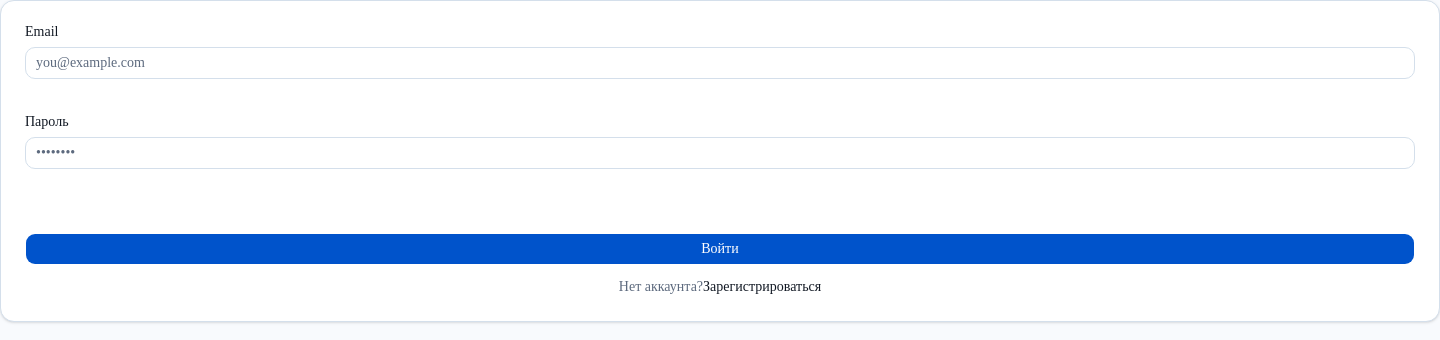
Test case: LoginForm › не отправляет форму с невалидным email
In the field labelled "Email": {"x": 720, "y": 63} [25,47,1415,79], type "invalid"
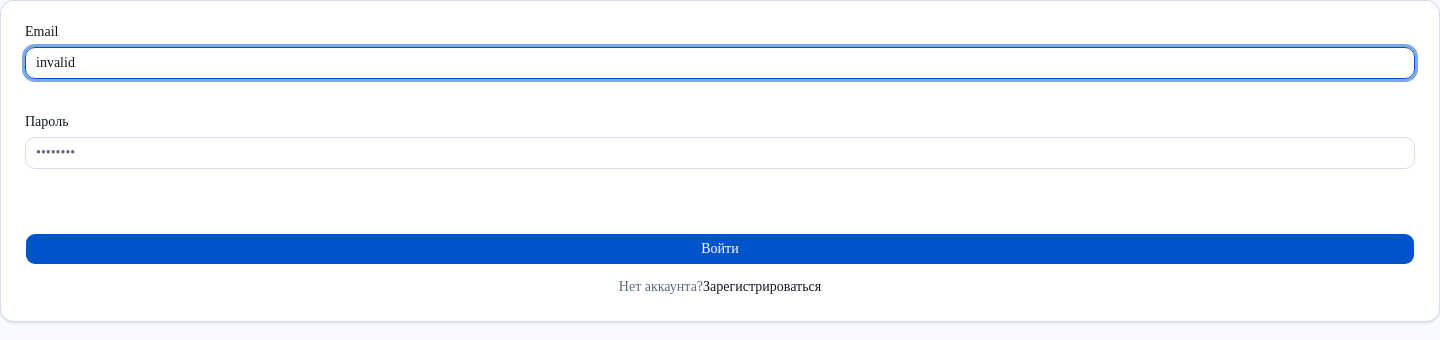
In the password field labelled "Пароль": {"x": 720, "y": 153} [25,137,1415,169], type "Password123!"
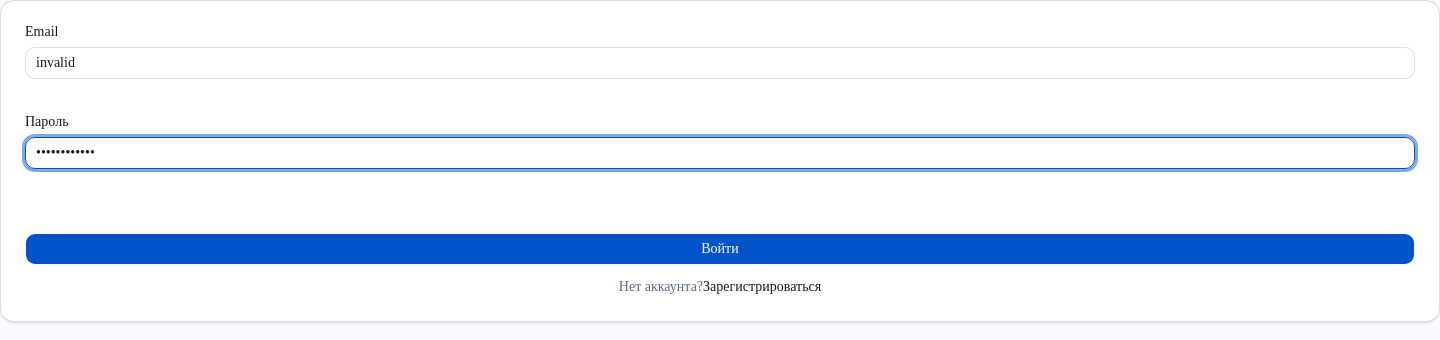
Click the button "Войти": {"x": 720, "y": 249} [25,233,1415,265]
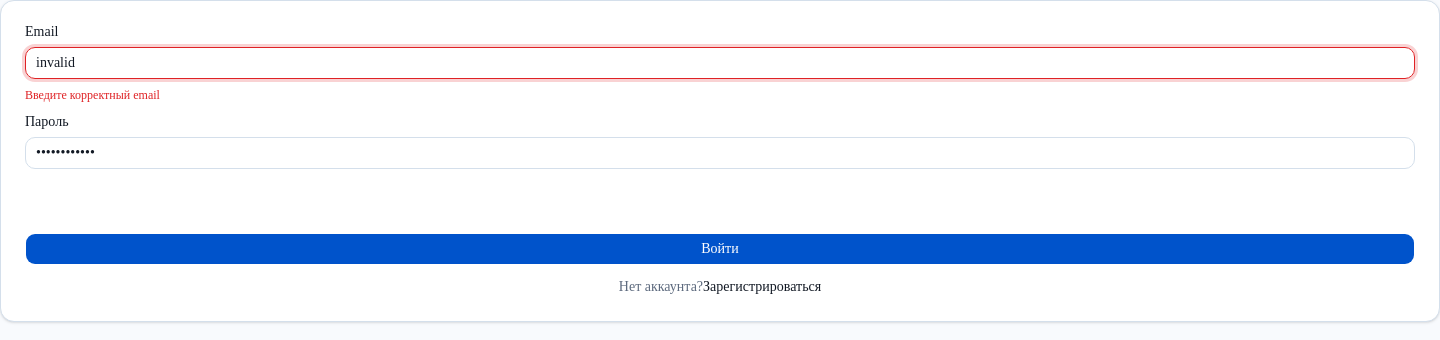
Check: the text "Введите корректный email" is shown, box [25,88,160,102]
